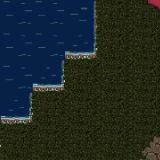Interaction: (0, 112, 43, 133), (22, 76, 44, 112), (52, 44, 74, 76), (85, 0, 101, 43), (44, 76, 73, 97), (73, 44, 102, 62)
Slow: (0, 0, 30, 116), (30, 0, 60, 84), (60, 0, 90, 52)
